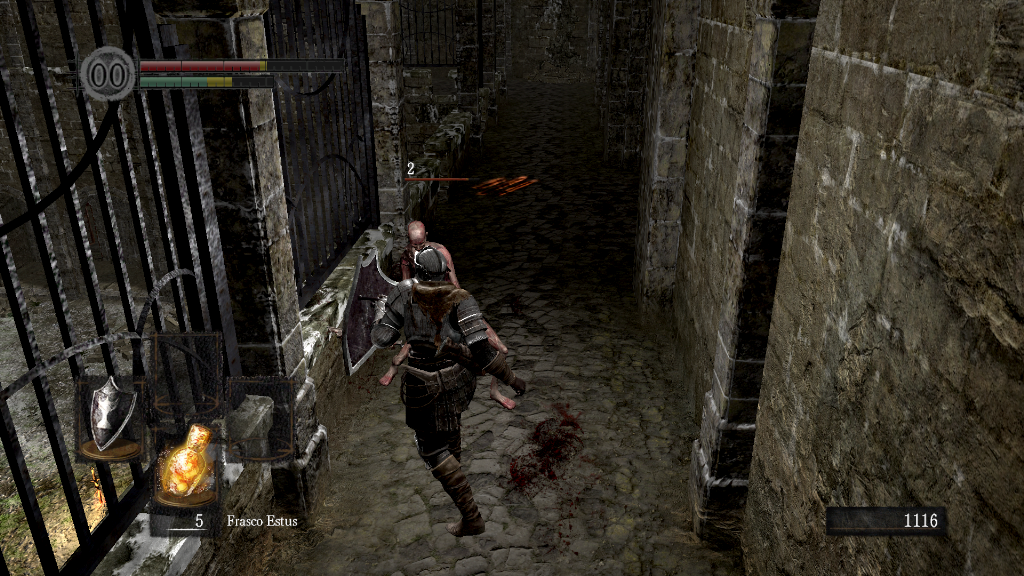health: (138, 58, 343, 71)
hollow: (381, 216, 515, 412)
humanity: (80, 45, 136, 102)
player: (339, 246, 529, 537)
souls: (825, 506, 945, 536)
stamina: (138, 74, 274, 88)
